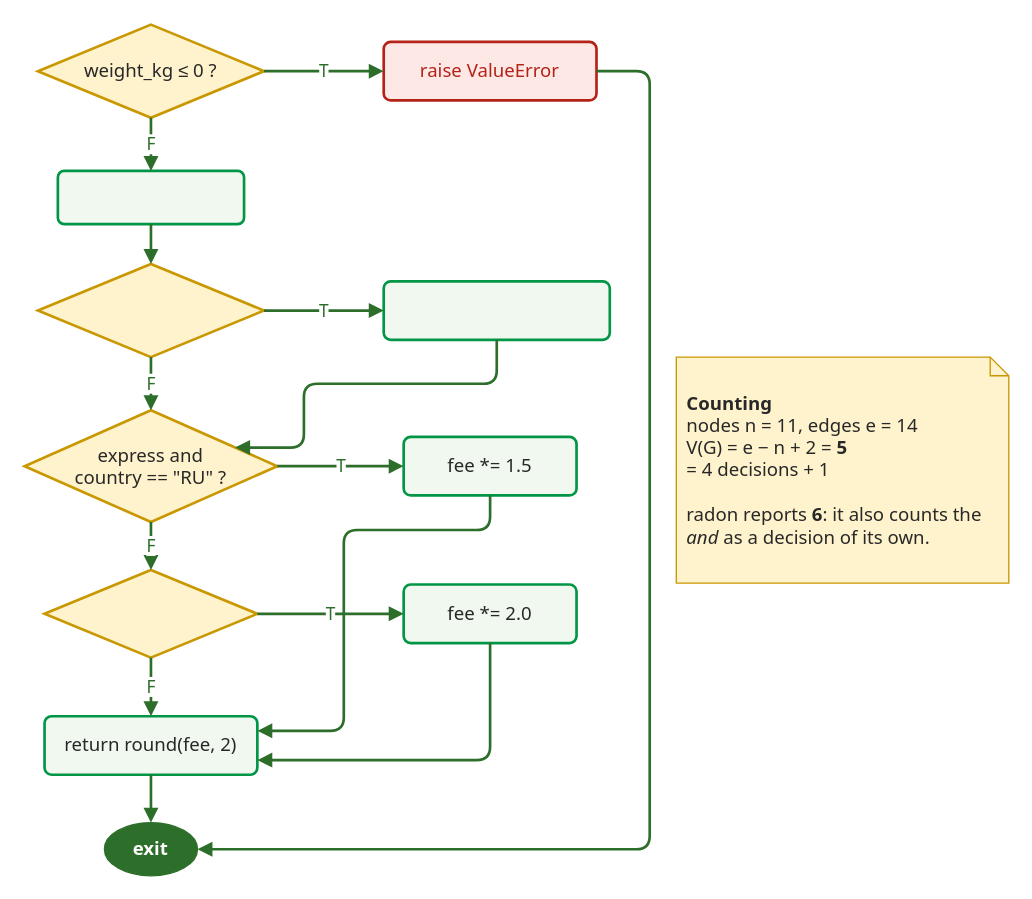
Some shapes in this 1032 by 899 pixel diagram are drawn without their labels. The shapes that lost their labels are listed below. From the top down, each one's box as (x1, y1, x2, y2) in pixels, then its label:
(56, 169, 245, 225): fee = 5.0
(36, 262, 265, 358): weight_kg > 10 ?
(382, 279, 610, 340): fee += 2·(w − 10)
(43, 568, 258, 658): express ?
